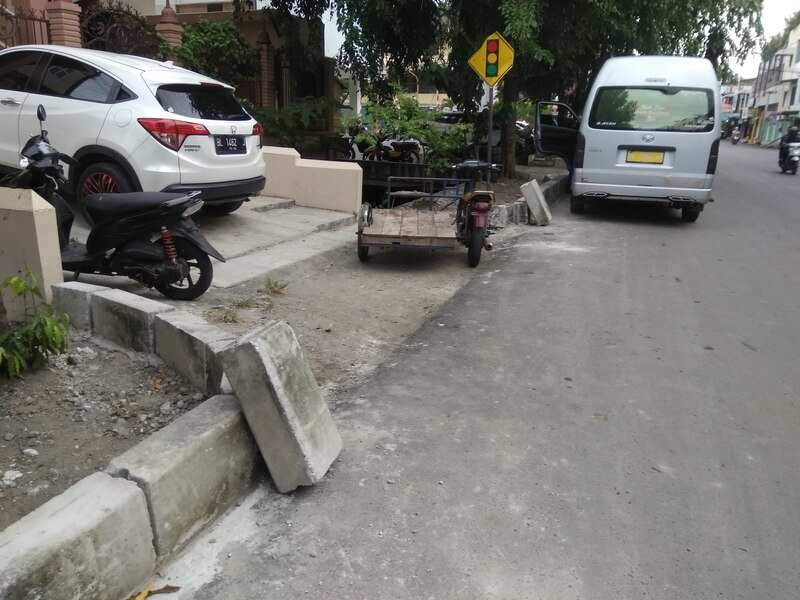becak barang: (353, 152, 506, 273)
car: (3, 35, 273, 228), (565, 48, 725, 237)
motorcycle: (9, 104, 222, 307)
